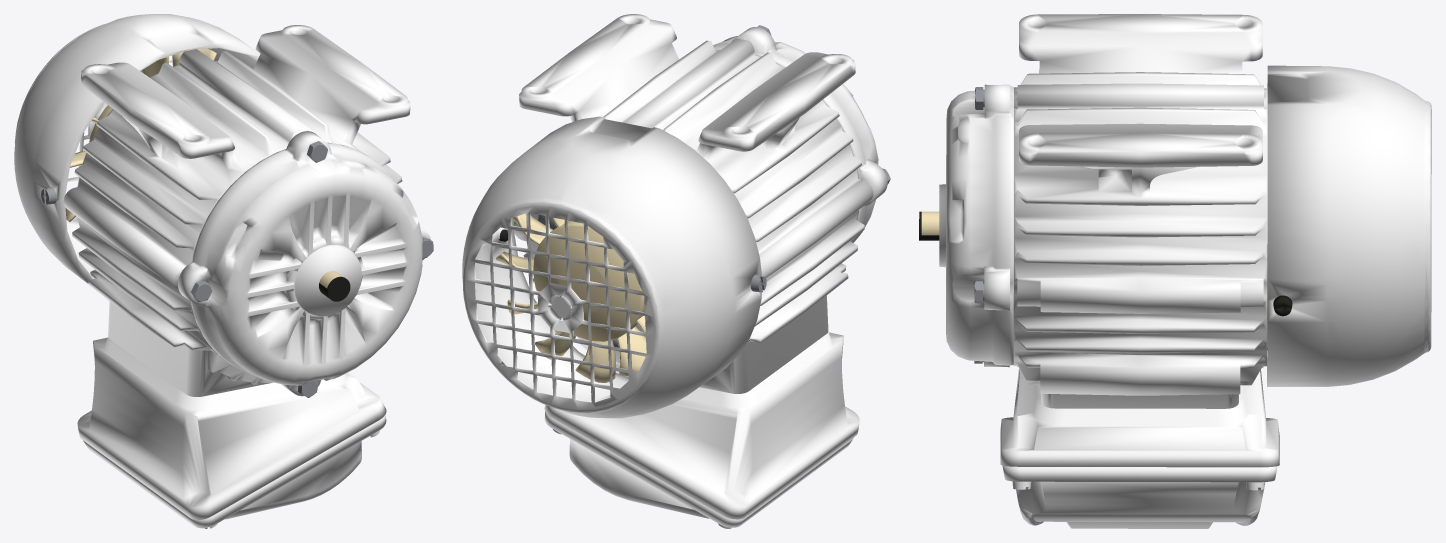
Rendered from motor_weg.glb.
3 renders of one model, left to right at view 1: azimuth 30°, elevation 25°; view 2: azimuth 150°, elevation 25°; view 3: azimuth 270°, elevation 25°, orthographic. The views are drawn at different scales.
Visible parts, largest first — view 1: motor_weg_02, motor_weg_03, motor_weg_05, motor_weg_01.001, motor_weg_04, motor_weg_06_parafuso_01, motor_weg_helice, motor_weg_eixo.001; view 2: motor_weg_01.001, motor_weg_02, motor_weg_05, motor_weg_helice, motor_weg_04, motor_weg_03; view 3: motor_weg_02, motor_weg_01.001, motor_weg_03, motor_weg_05, motor_weg_04.
Boxes of the visible parts, <box> form: motor_weg_02: <box>63,25,410,396</box>; motor_weg_03: <box>178,131,430,396</box>; motor_weg_05: <box>77,337,386,519</box>; motor_weg_01.001: <box>14,14,259,283</box>; motor_weg_04: <box>83,414,386,528</box>; motor_weg_06_parafuso_01: <box>191,141,433,397</box>; motor_weg_helice: <box>65,48,216,221</box>; motor_weg_eixo.001: <box>319,276,350,301</box>; motor_weg_01.001: <box>462,116,761,418</box>; motor_weg_02: <box>514,14,873,393</box>; motor_weg_05: <box>544,332,859,519</box>; motor_weg_helice: <box>495,213,646,382</box>; motor_weg_04: <box>544,411,853,527</box>; motor_weg_03: <box>713,27,887,242</box>; motor_weg_02: <box>1013,14,1267,408</box>; motor_weg_01.001: <box>1267,65,1431,386</box>; motor_weg_03: <box>939,84,1013,367</box>; motor_weg_05: <box>1000,368,1279,467</box>; motor_weg_04: <box>1002,465,1277,528</box>.
Bounding box in the file's own units: 18.63 × 26.11 × 27.8.
